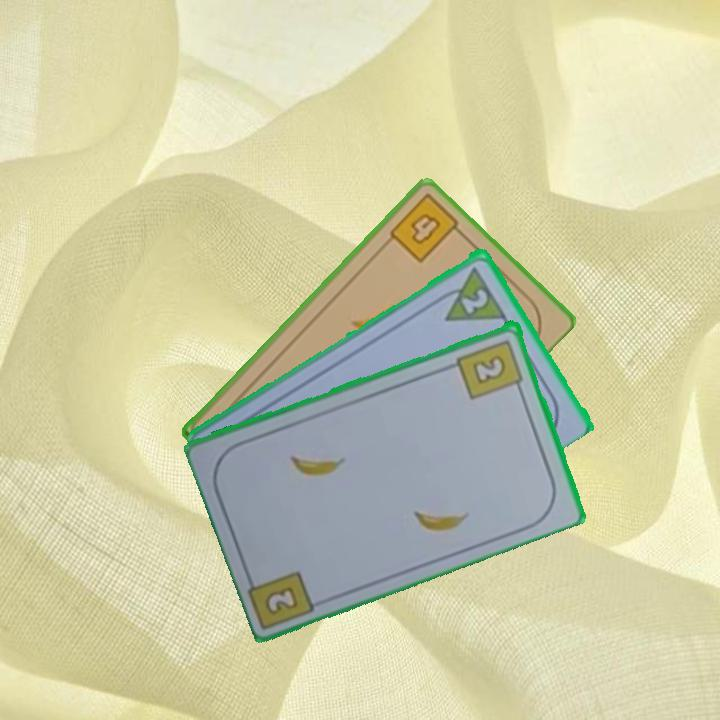2b: (454, 335, 527, 402), (261, 582, 302, 618)
2p: (431, 262, 508, 324)
4b: (385, 190, 467, 266)
